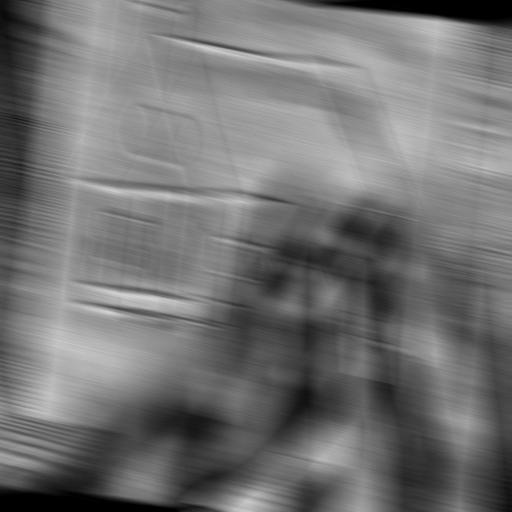bottom_left: (6, 401, 35, 429)
bottom_right: (401, 472, 430, 499)
house: (60, 0, 445, 369)
